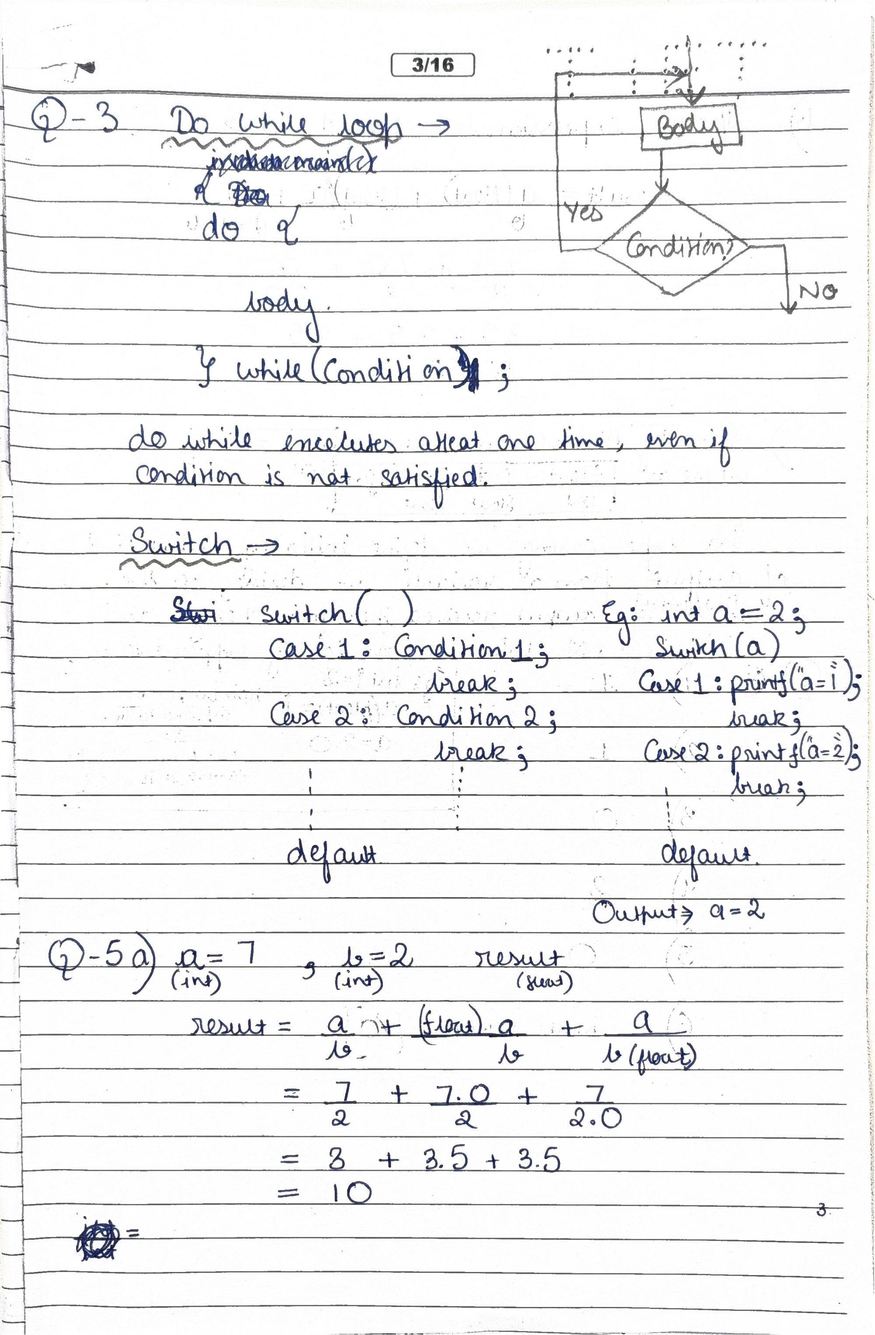cuttings: (192, 143, 382, 209), (72, 1218, 123, 1263), (170, 594, 219, 625), (467, 357, 480, 393)
